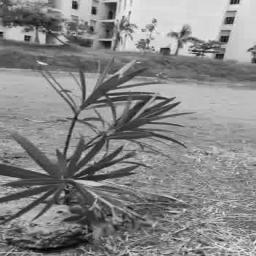OLEANDER: (0, 56, 198, 246)
